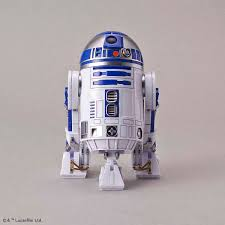r2d2: (59, 31, 160, 190)
